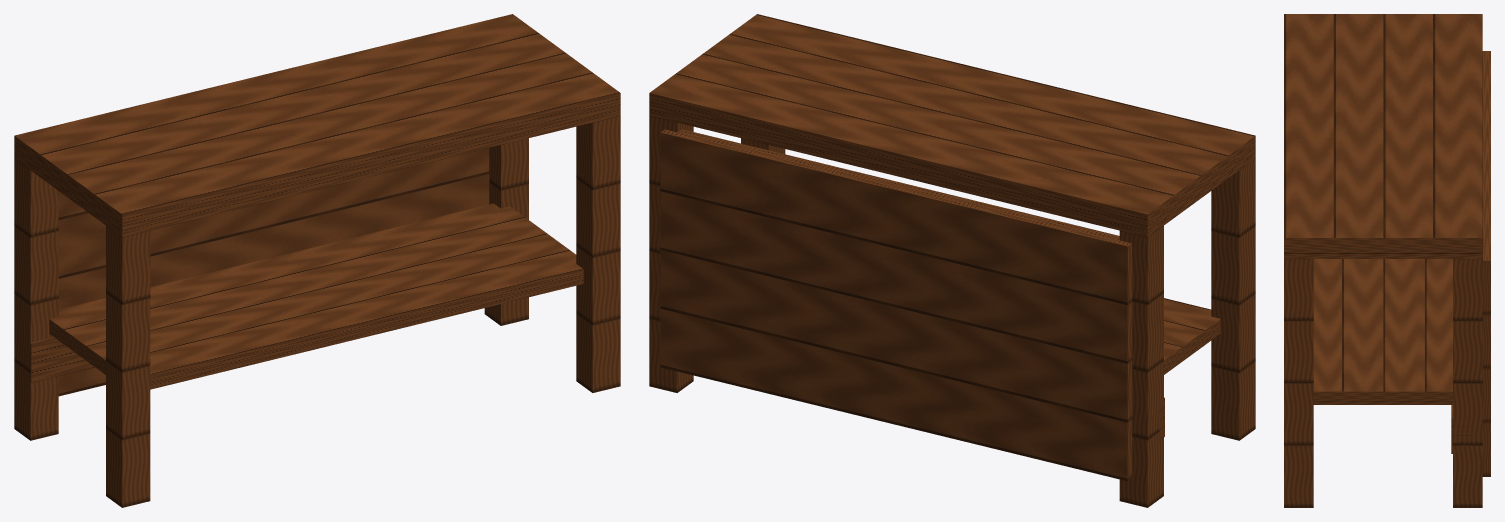
File: bunker-shelter-construction-meal-preparation-counter-678848de__23340.glb
3 renders of one model, left to right at view 1: azimuth 30°, elevation 25°; view 2: azimuth 150°, elevation 25°; view 3: azimuth 270°, elevation 25°, orthographic. The views are drawn at different scales.
Parts seen in each view (by area): view 1: meal-preparation-counter; view 2: meal-preparation-counter; view 3: meal-preparation-counter.
Boxes of the visible parts, box(x1,y1,x2,y2) form: meal-preparation-counter: box(14, 14, 620, 507); meal-preparation-counter: box(649, 14, 1255, 507); meal-preparation-counter: box(1284, 14, 1490, 507).
Bounding box in the file's own units: 1.6 × 0.8999 × 0.6251.
1 material, 1 textured.
